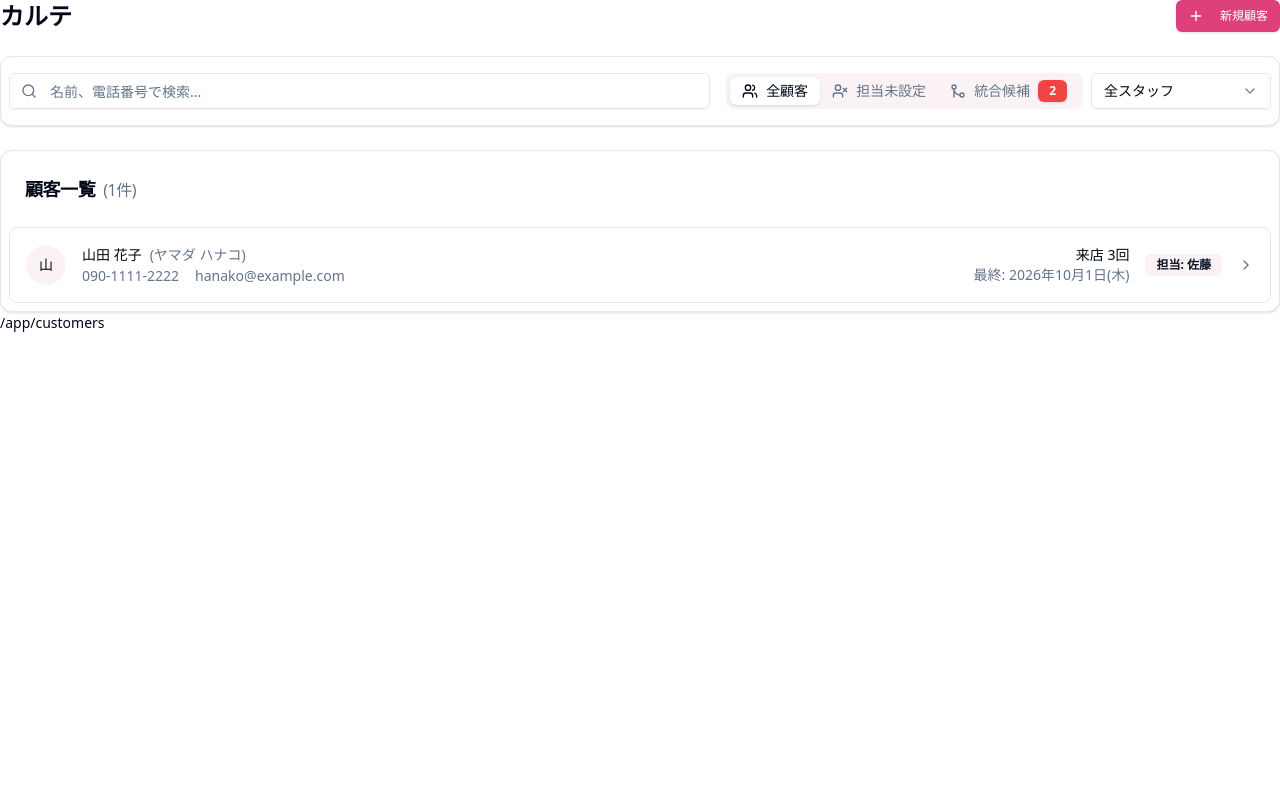
Test: 顧客管理 list › 統合候補: merges the LINE record into the existing one, or skips the pair
The width and height of the screenshot is (1280, 800).
Expected: the text "2" is shown, [1038, 80, 1067, 102]
Click the tab "統合候補 2" at (1009, 91), box [938, 76, 1079, 106]
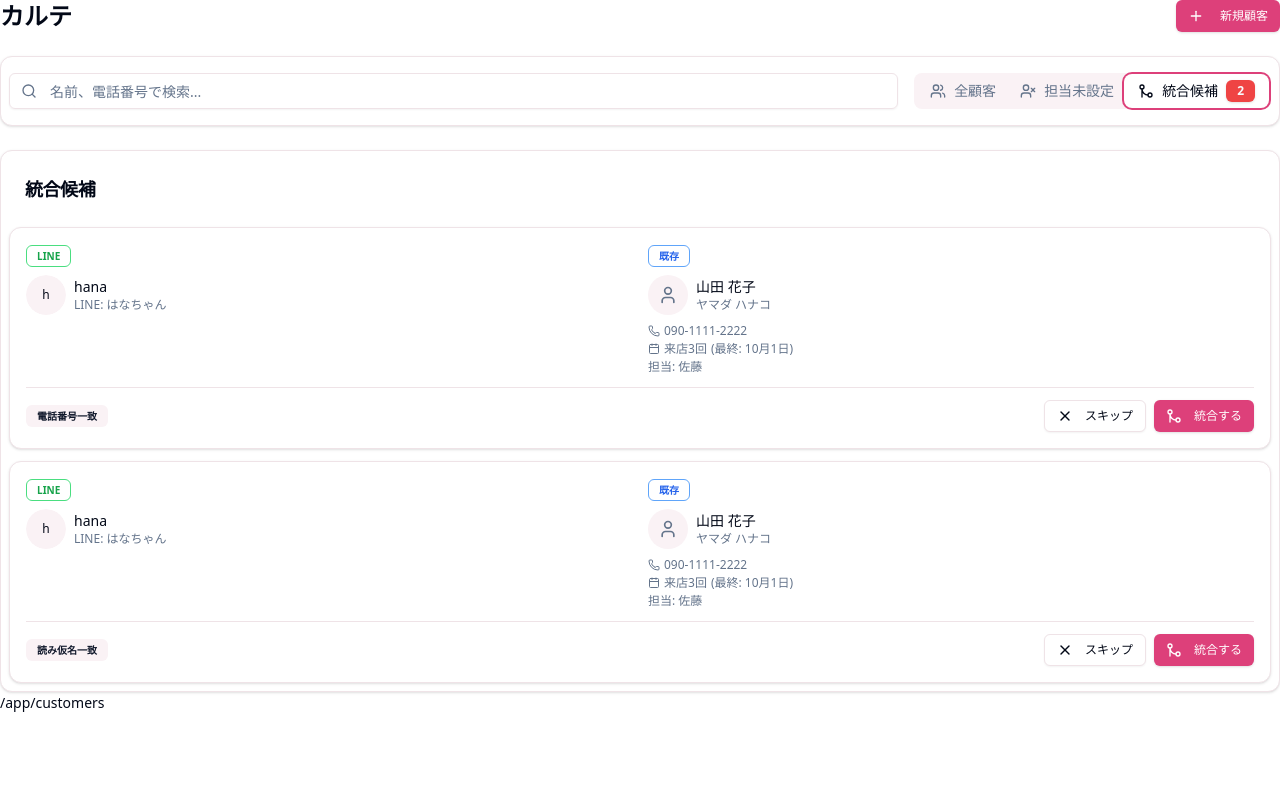
Expected: the 1st text "LINE" is shown, [26, 245, 71, 267]
Expected: the 1st text "LINE: はなちゃん" is shown, [74, 297, 166, 313]
Expected: the 1st text "既存" is shown, [648, 245, 690, 267]
Click the button "統合する" in the row of "電話番号一致" at (1204, 416), box [1154, 400, 1254, 432]
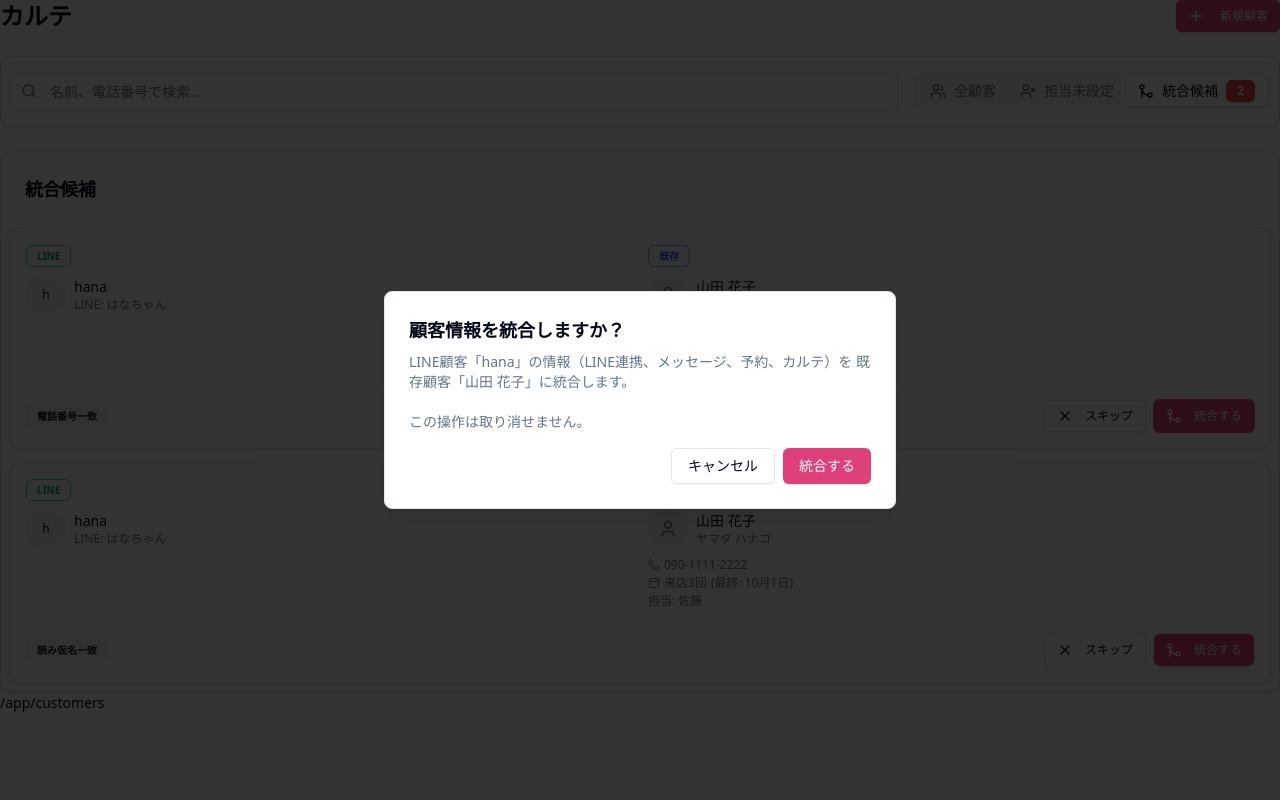
Expected: the dialog shows "LINE顧客「hana」の情報（LINE連携、メッセージ、予約、カルテ）を 既存顧客「山田 花子」に統合します。", [384, 291, 896, 509]
Expected: the dialog shows "この操作は取り消せません。", [409, 412, 591, 431]
Click the button "統合する" at (827, 466), box [783, 448, 871, 484]
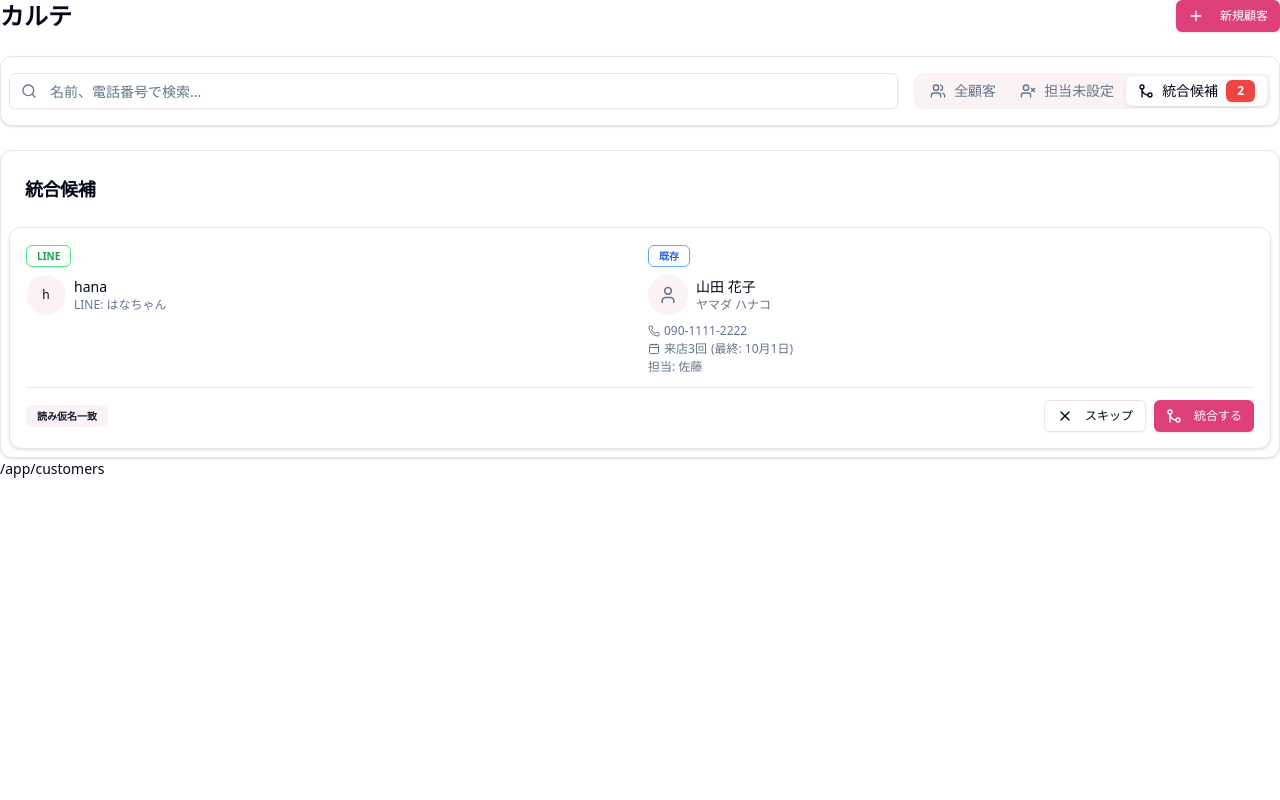
Click the button "スキップ" at (1095, 416), box [1044, 400, 1146, 432]
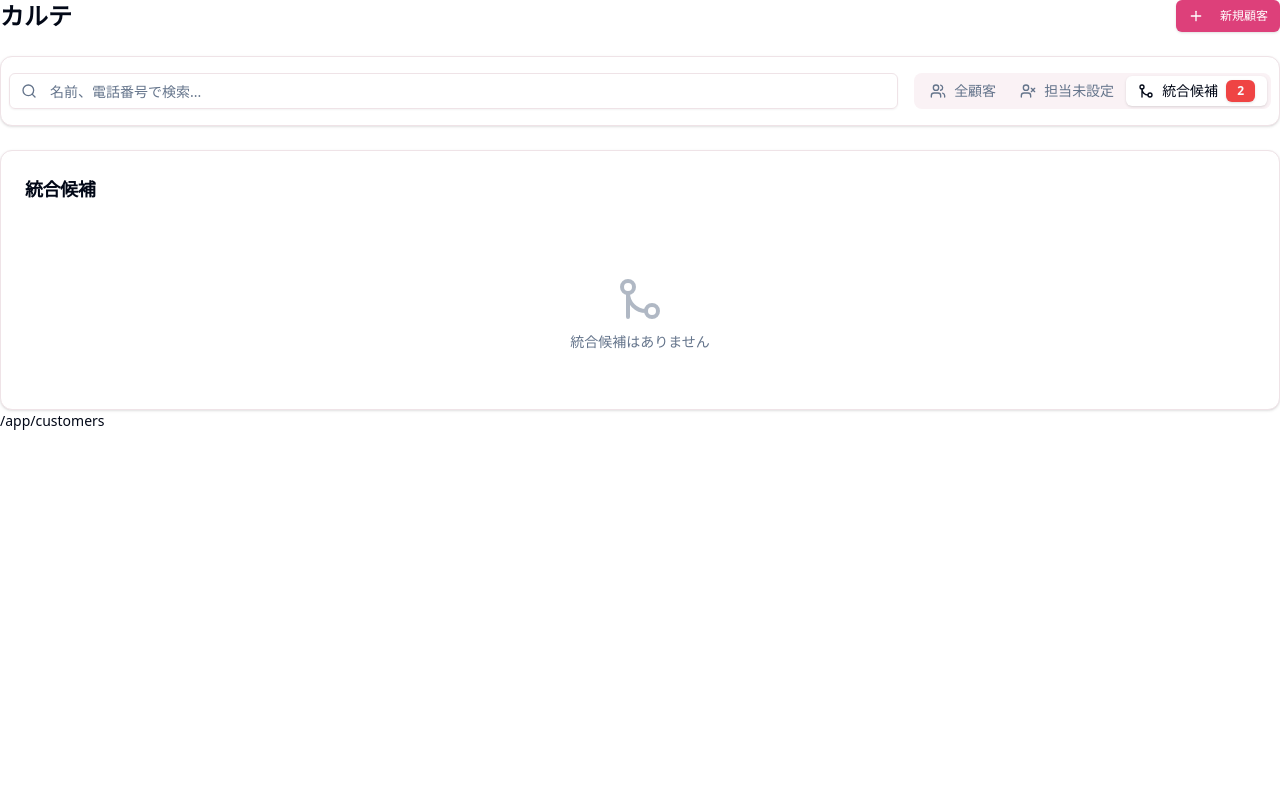
Expected: the text "統合候補はありません" is shown, [570, 332, 710, 351]
